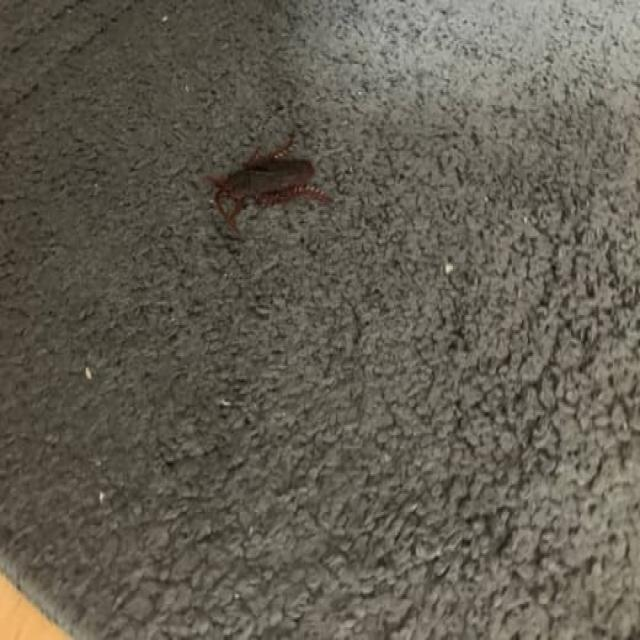Cockroach: (188, 125, 354, 249)
